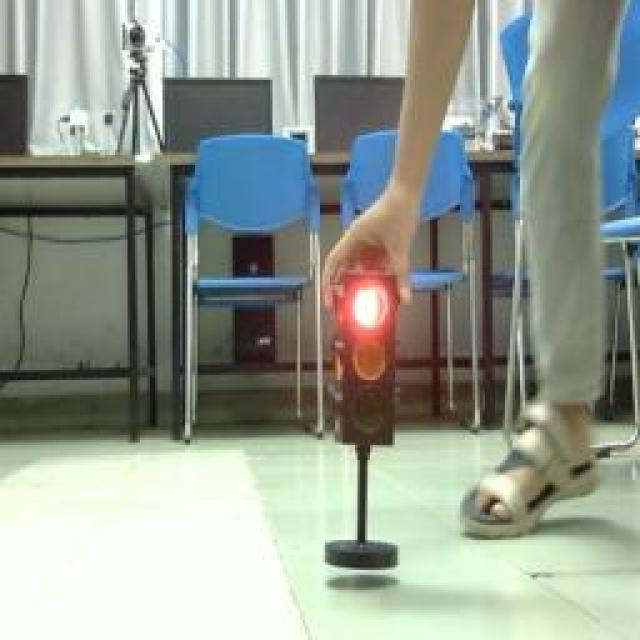-: (354, 284, 389, 329)
